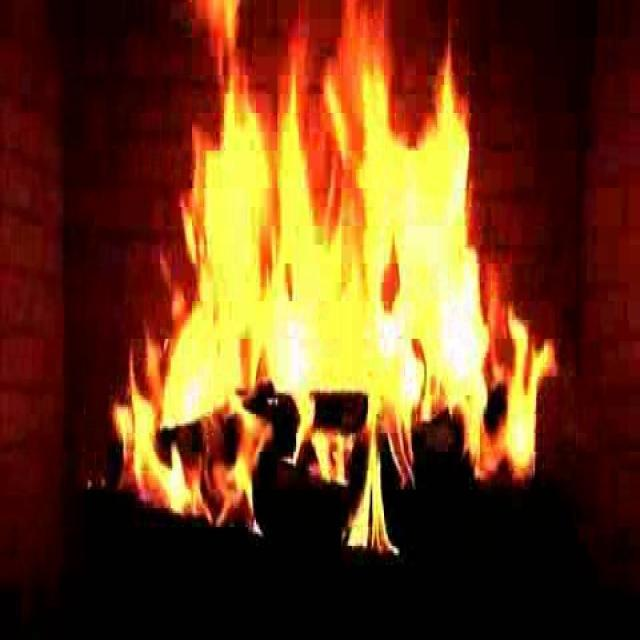Fire: (124, 0, 559, 548)
